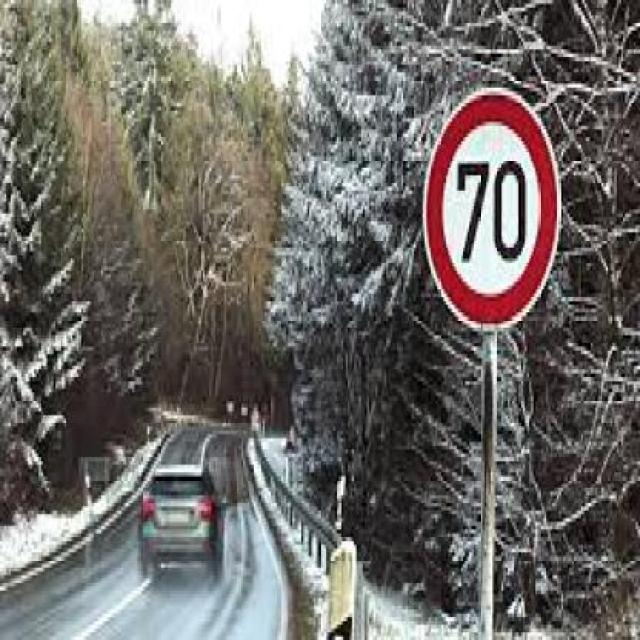forb_speed_over_70: (423, 83, 566, 335)
